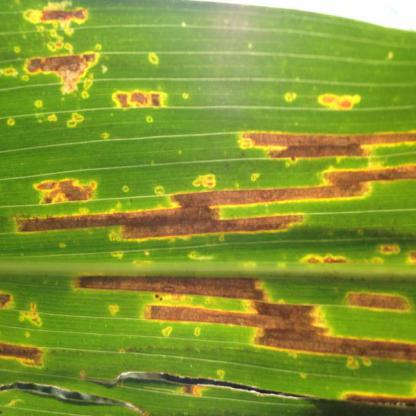corn gray leaf spot: (0, 1, 416, 415)
